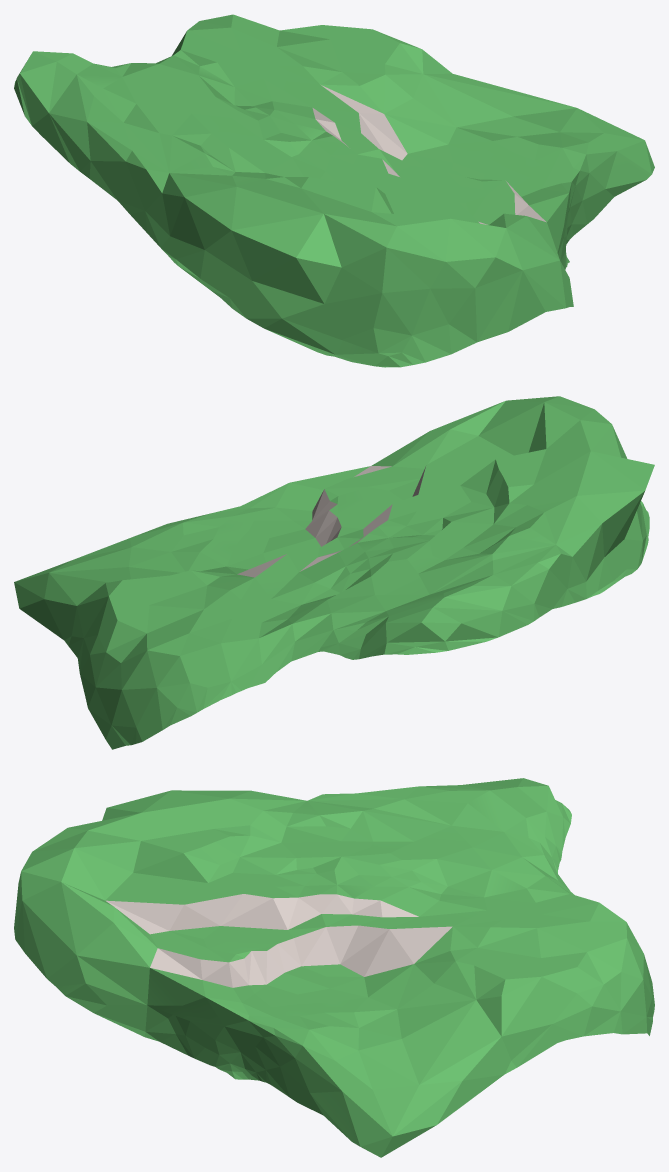
The model's file is ground.067.fbx.
The picture shows the model from 3 angles, top to bottom: view 1: azimuth 30°, elevation 25°; view 2: azimuth 150°, elevation 25°; view 3: azimuth 270°, elevation 25°; orthographic projection. The views are drawn at different scales.
Parts seen in each view (by area): view 1: ground_067; view 2: ground_067; view 3: ground_067.
Part boxes in pixels (box(x1,y1,x2,y2)): ground_067: box(14, 14, 654, 367); ground_067: box(14, 396, 654, 749); ground_067: box(14, 778, 654, 1157).
Size of the model in its own units: 10838 by 3196 by 12262.
